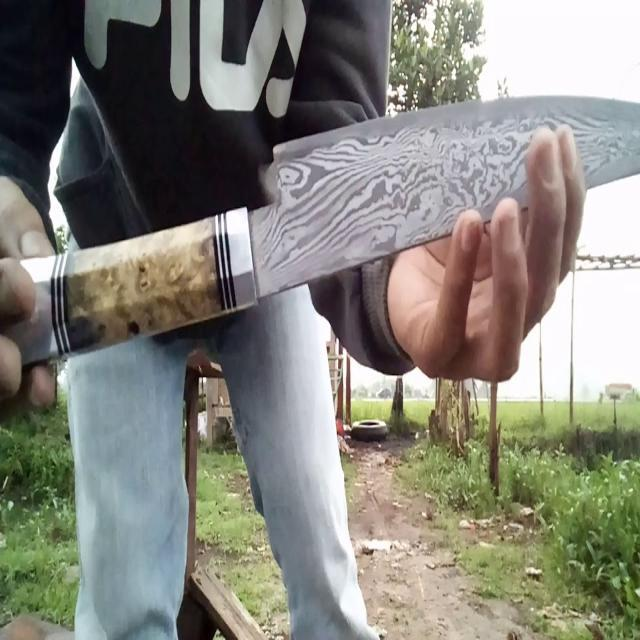Pisau: (18, 79, 636, 372)
